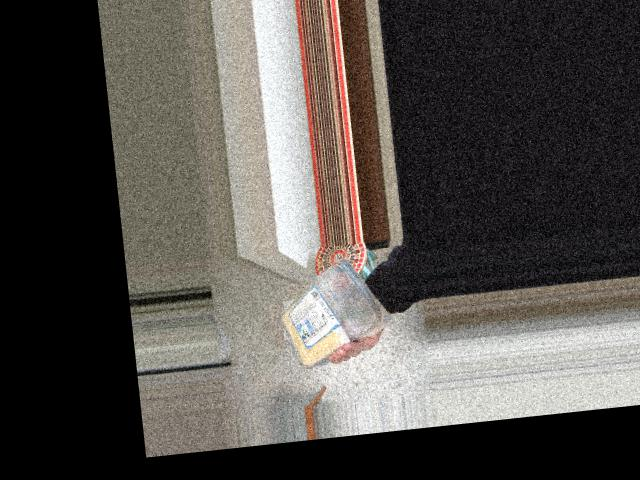cheese: (265, 254, 381, 359)
